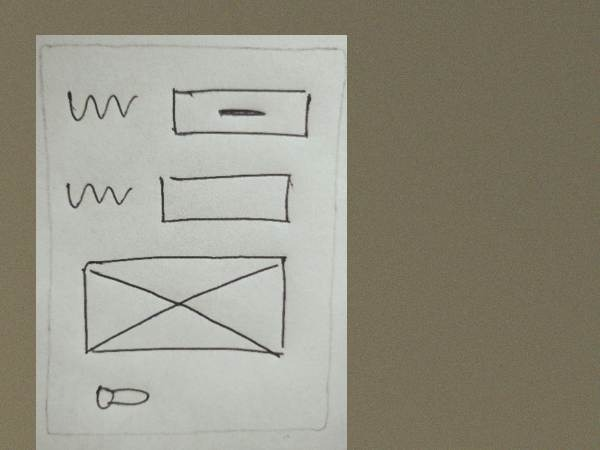button: (165, 79, 313, 146)
image: (75, 251, 291, 362)
switch: (86, 377, 156, 414)
text: (61, 174, 138, 216), (61, 86, 141, 124)
text_input: (154, 167, 295, 229)
